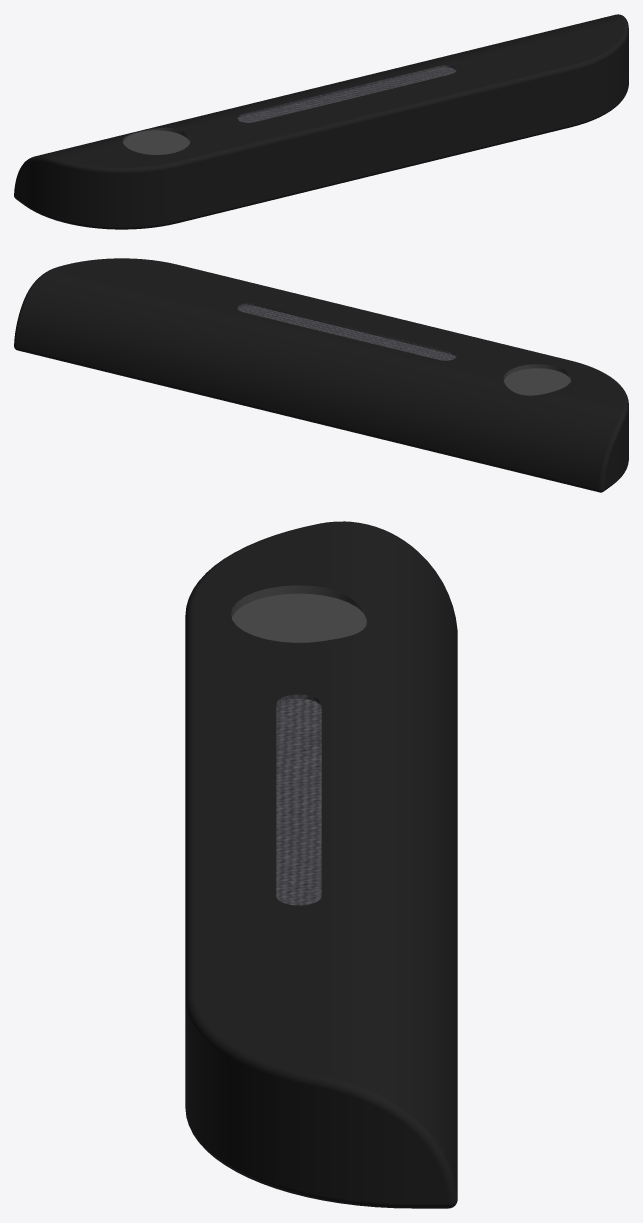
Rendered from earpiece.glb.
The picture shows the model from 3 angles, top to bottom: view 1: azimuth 30°, elevation 25°; view 2: azimuth 150°, elevation 25°; view 3: azimuth 270°, elevation 25°; orthographic projection. The views are drawn at different scales.
Visible parts, largest first — view 1: color, grey cotton, black, black_clonedChild; view 2: color, grey cotton, black, black_clonedChild; view 3: color, grey cotton, black, black_clonedChild.
Part boxes in pixels (<box>): color: <box>14,14,628,229</box>; grey cotton: <box>237,65,456,122</box>; black: <box>122,127,190,154</box>; black_clonedChild: <box>123,128,190,154</box>; color: <box>14,258,628,492</box>; grey cotton: <box>237,303,456,360</box>; black: <box>503,364,571,395</box>; black_clonedChild: <box>504,364,571,395</box>; color: <box>185,521,457,1208</box>; grey cotton: <box>276,694,321,905</box>; black: <box>231,585,366,642</box>; black_clonedChild: <box>231,585,366,642</box>.
Size of the model in its own units: 0.03 by 0.003 by 0.00599.
Materials: 4 (1 with a texture image).
